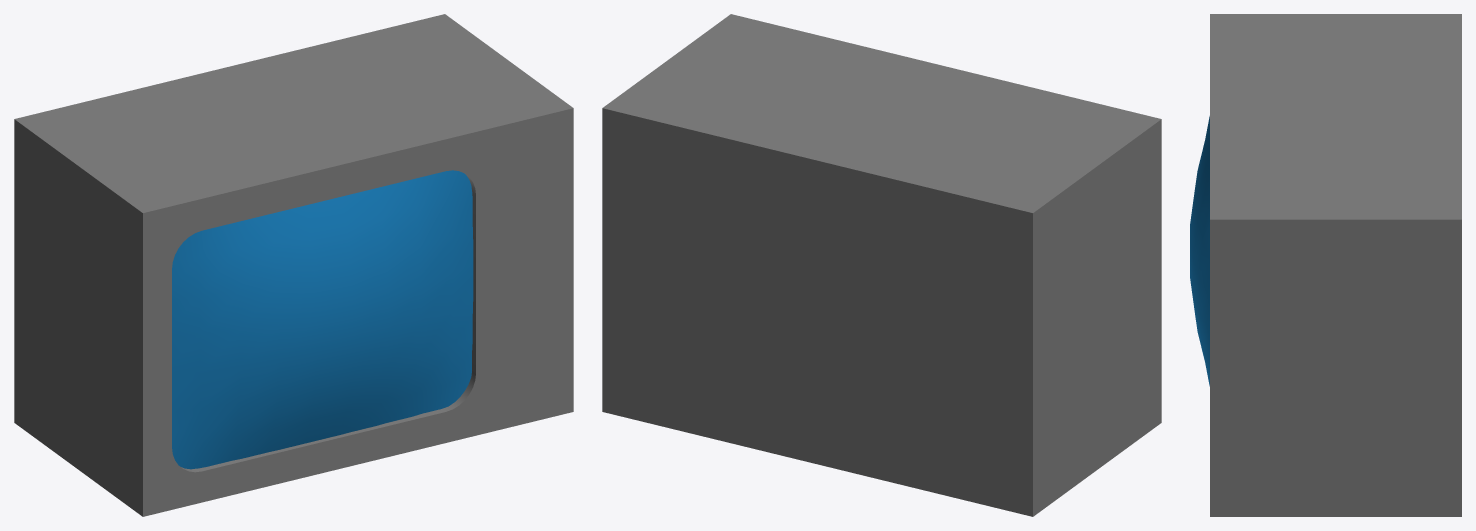
3 views of the same model, side by side, from view 1: azimuth 30°, elevation 25°; view 2: azimuth 150°, elevation 25°; view 3: azimuth 270°, elevation 25° (orthographic). The views are drawn at different scales.
Parts seen in each view (by area): view 1: TV; view 2: TV; view 3: TV.
Part boxes in pixels (<box>): TV: <box>14,14,573,516</box>; TV: <box>602,14,1161,516</box>; TV: <box>1190,14,1461,516</box>.
Size of the model in its own units: 72.75 by 49.03 by 40.63.
